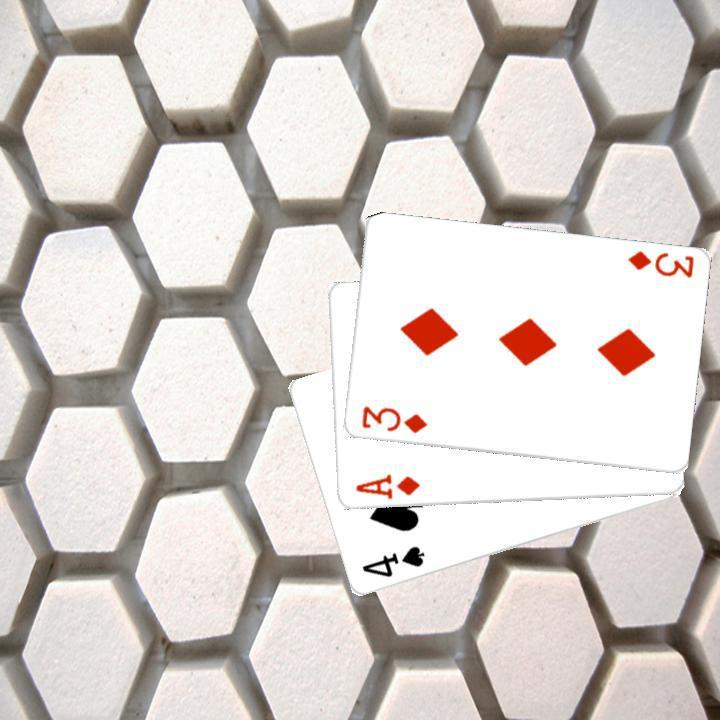3: (356, 401, 429, 436), (623, 247, 695, 280)
4: (357, 542, 426, 580)
A: (351, 470, 421, 501)
